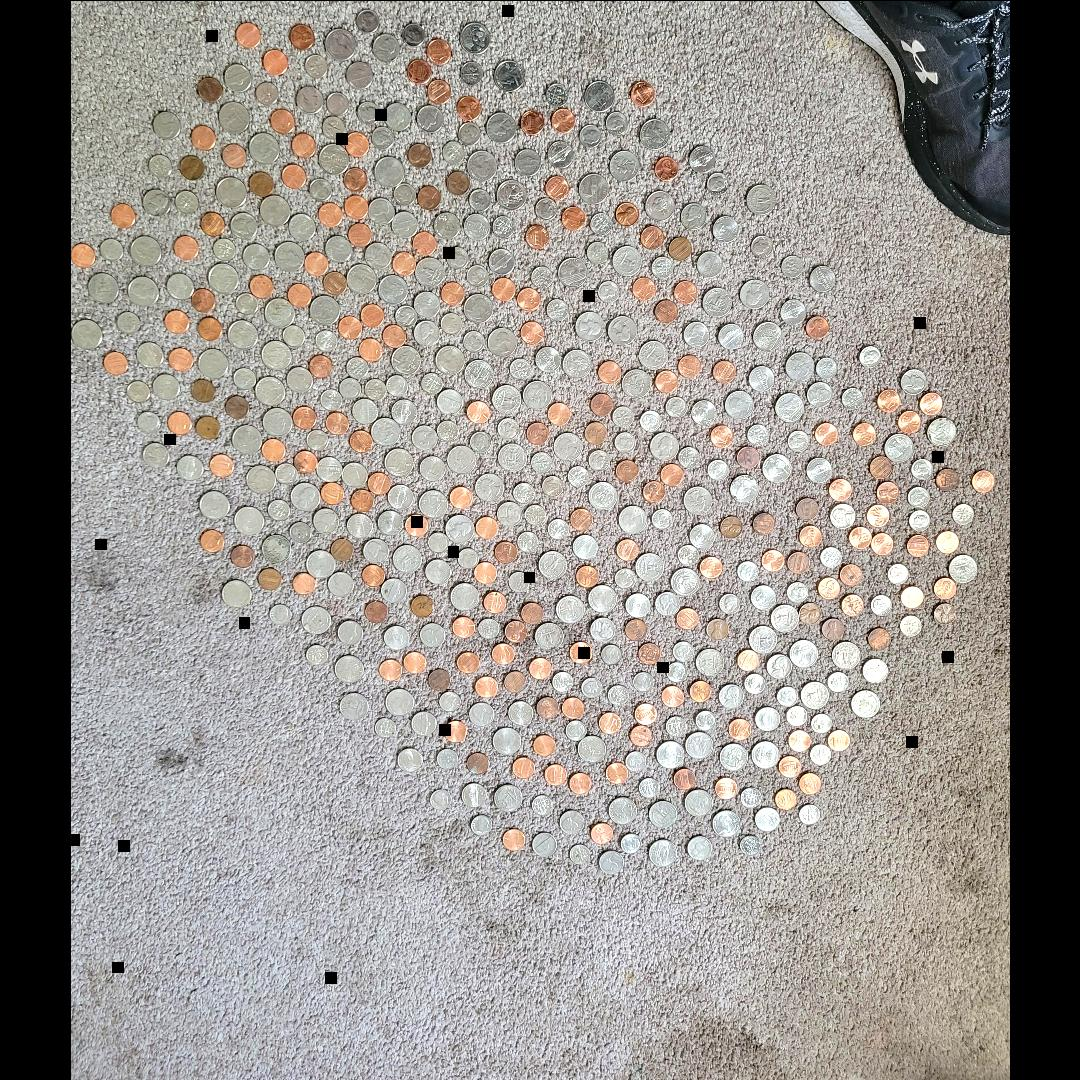Dime: (304, 53, 327, 76), (442, 140, 464, 164), (174, 190, 198, 212), (148, 154, 172, 176), (372, 126, 394, 150), (461, 60, 483, 84), (356, 10, 379, 32), (214, 237, 237, 259), (100, 238, 123, 260), (911, 458, 933, 480), (841, 387, 863, 409), (678, 446, 700, 468), (614, 430, 636, 452), (306, 428, 328, 450), (276, 462, 298, 484), (268, 498, 290, 520), (137, 410, 159, 432), (117, 311, 139, 333), (282, 324, 304, 346), (346, 356, 368, 378), (320, 388, 342, 410), (395, 304, 417, 326), (364, 378, 386, 400), (463, 330, 485, 352), (509, 358, 531, 380), (598, 280, 620, 302), (707, 172, 729, 194), (531, 265, 553, 287), (493, 215, 515, 237), (469, 188, 491, 210), (310, 178, 332, 200), (256, 82, 278, 104), (326, 92, 348, 114), (323, 117, 345, 139), (357, 101, 379, 123), (402, 23, 424, 45), (458, 122, 480, 144), (546, 83, 568, 105), (580, 124, 602, 146), (605, 111, 627, 133), (127, 380, 149, 402), (517, 530, 539, 551), (901, 614, 922, 636), (952, 503, 974, 524), (469, 430, 490, 452), (290, 520, 311, 542), (233, 367, 255, 388), (237, 292, 258, 314), (316, 330, 337, 352), (441, 312, 462, 334), (546, 298, 567, 320), (816, 357, 837, 379), (587, 241, 608, 263), (590, 213, 612, 234), (447, 246, 468, 268), (393, 183, 414, 205), (458, 546, 479, 567), (422, 371, 443, 392), (810, 744, 832, 764), (666, 714, 686, 736), (607, 684, 629, 704), (532, 794, 554, 814), (430, 788, 452, 808), (478, 618, 500, 638), (614, 568, 636, 588), (678, 544, 700, 564), (719, 593, 741, 613), (820, 546, 842, 566), (744, 672, 766, 692), (910, 508, 930, 530), (908, 486, 930, 506), (708, 458, 728, 480), (651, 508, 673, 528), (612, 406, 634, 426), (339, 378, 361, 398), (860, 345, 880, 367), (782, 254, 802, 276), (751, 236, 773, 256), (652, 255, 672, 277), (536, 197, 556, 219), (741, 834, 762, 854), (639, 777, 660, 797), (566, 719, 586, 740), (472, 814, 493, 834), (437, 748, 458, 768), (440, 691, 461, 711), (787, 581, 807, 602), (829, 671, 850, 691), (871, 594, 892, 614), (788, 429, 808, 450), (666, 396, 686, 417), (640, 410, 661, 430), (524, 504, 545, 524), (514, 481, 534, 502), (543, 476, 564, 496), (532, 451, 552, 472), (498, 418, 518, 439), (437, 420, 458, 440), (468, 265, 488, 286), (696, 710, 716, 730), (812, 712, 832, 732), (800, 803, 820, 823), (622, 833, 642, 853), (570, 843, 590, 863), (625, 750, 645, 770), (582, 677, 602, 697), (428, 531, 448, 551), (553, 671, 573, 691), (673, 640, 693, 660), (738, 561, 758, 581), (888, 563, 908, 583), (748, 424, 768, 444), (588, 449, 608, 469), (568, 466, 588, 486), (548, 518, 568, 538), (388, 374, 408, 394), (786, 706, 807, 725), (667, 662, 688, 681), (374, 718, 396, 736), (306, 644, 328, 662), (508, 572, 530, 590), (270, 603, 290, 622), (777, 686, 798, 704), (742, 786, 760, 806), (602, 643, 620, 663), (633, 672, 653, 690)
Nickel: (152, 110, 180, 138), (385, 102, 411, 130), (144, 188, 170, 216), (411, 423, 437, 451), (780, 298, 807, 324), (515, 148, 541, 175), (347, 61, 373, 88), (417, 105, 443, 132), (373, 34, 399, 61), (830, 502, 856, 528), (177, 454, 203, 480), (287, 366, 313, 392), (352, 398, 378, 424), (718, 322, 744, 348), (810, 265, 836, 291), (712, 215, 738, 241), (547, 140, 573, 166), (391, 211, 417, 237), (368, 198, 394, 224), (488, 248, 514, 274), (365, 242, 391, 268), (325, 235, 351, 261), (414, 320, 440, 346), (414, 291, 440, 317), (289, 214, 315, 240), (167, 272, 193, 298), (225, 64, 251, 90), (230, 212, 256, 238), (296, 86, 322, 112), (316, 456, 342, 481), (900, 369, 926, 394), (434, 213, 460, 238), (153, 372, 179, 397), (681, 203, 706, 229), (135, 342, 162, 366), (690, 146, 714, 173), (495, 500, 522, 524), (754, 806, 780, 830), (426, 558, 450, 584), (572, 534, 598, 558), (862, 658, 888, 682), (806, 457, 832, 481), (347, 512, 373, 536), (342, 462, 368, 486), (392, 398, 416, 424), (437, 388, 463, 412), (536, 346, 560, 372), (684, 322, 710, 346), (749, 366, 775, 390), (698, 251, 722, 277), (464, 214, 490, 238), (243, 244, 269, 268), (143, 443, 169, 467), (329, 571, 354, 595), (718, 683, 744, 706), (590, 617, 616, 640), (468, 702, 494, 725), (688, 835, 712, 859), (560, 810, 584, 834), (755, 706, 779, 730), (508, 700, 532, 724), (462, 782, 486, 806), (532, 832, 556, 856), (412, 710, 436, 734), (338, 620, 362, 644), (382, 578, 406, 602), (364, 538, 388, 562), (420, 622, 444, 646), (626, 592, 650, 616), (752, 584, 776, 608), (690, 524, 714, 548), (388, 484, 412, 508), (378, 510, 402, 534), (420, 456, 444, 480), (808, 382, 832, 406), (314, 508, 338, 532), (692, 400, 716, 424), (384, 625, 408, 648), (768, 653, 792, 676), (398, 747, 422, 770), (599, 850, 623, 872), (656, 592, 680, 614)
Penny: (262, 48, 288, 76), (198, 76, 222, 102), (249, 170, 273, 196), (896, 409, 922, 433), (191, 125, 215, 150), (236, 21, 260, 46), (362, 600, 388, 623), (970, 468, 996, 491), (164, 311, 190, 334), (936, 467, 960, 491), (230, 544, 254, 568), (168, 409, 192, 433), (174, 235, 198, 259), (180, 155, 204, 179), (222, 144, 246, 168), (343, 194, 367, 218), (408, 59, 432, 83), (446, 170, 470, 194), (552, 107, 576, 131), (526, 656, 552, 678), (448, 485, 474, 507), (208, 454, 234, 476), (284, 164, 306, 190), (291, 23, 313, 49), (418, 184, 440, 210), (641, 224, 663, 250), (351, 488, 374, 512), (192, 378, 215, 402), (346, 131, 368, 156), (73, 243, 96, 266), (878, 388, 901, 411), (444, 718, 466, 742), (570, 640, 592, 664), (688, 680, 712, 702), (520, 601, 544, 623), (504, 620, 528, 642), (451, 614, 473, 638), (483, 591, 507, 613), (293, 571, 315, 595), (258, 567, 282, 589), (901, 584, 923, 608), (405, 513, 429, 535), (367, 472, 391, 494), (320, 481, 344, 503), (871, 530, 893, 554), (866, 504, 890, 526), (875, 480, 899, 502), (852, 422, 876, 444), (736, 446, 760, 468), (710, 425, 734, 447), (349, 430, 373, 452), (293, 450, 317, 472), (263, 436, 285, 460), (201, 528, 223, 552), (103, 352, 127, 374), (111, 204, 135, 226), (169, 348, 193, 370), (197, 414, 219, 438), (192, 288, 214, 312), (308, 354, 332, 376), (323, 272, 347, 294), (338, 316, 362, 338), (360, 338, 382, 362), (320, 202, 342, 226), (349, 222, 371, 246), (271, 108, 293, 132), (292, 132, 314, 156), (344, 166, 366, 190), (428, 39, 450, 63), (429, 79, 451, 103), (457, 97, 481, 119), (409, 142, 431, 166), (412, 231, 436, 253), (466, 400, 490, 422), (521, 320, 543, 344), (493, 276, 515, 300), (516, 287, 540, 309), (526, 224, 548, 248), (521, 111, 543, 135), (631, 82, 655, 104), (656, 156, 678, 180), (545, 176, 569, 198), (563, 205, 585, 229), (669, 236, 691, 260), (632, 275, 654, 299), (599, 360, 621, 384), (713, 360, 737, 382), (805, 316, 829, 338), (655, 298, 677, 322), (918, 392, 942, 414), (661, 685, 684, 707), (410, 594, 433, 616), (868, 625, 890, 648), (934, 601, 956, 624), (660, 463, 683, 485), (526, 421, 548, 444), (202, 212, 224, 235), (250, 275, 272, 298), (305, 250, 327, 273), (674, 281, 697, 303), (656, 369, 678, 392), (799, 771, 821, 793), (779, 755, 801, 777), (716, 777, 738, 799), (674, 766, 696, 788), (606, 761, 628, 783), (569, 771, 591, 793), (544, 762, 566, 784), (513, 755, 535, 777), (404, 650, 426, 672), (428, 668, 450, 690), (457, 650, 479, 672), (475, 674, 497, 696), (504, 669, 526, 691), (535, 696, 557, 718), (563, 697, 585, 719), (634, 702, 656, 724), (638, 642, 660, 664), (625, 619, 647, 641), (728, 717, 750, 739), (706, 617, 728, 639), (677, 606, 699, 628), (799, 601, 821, 623), (700, 555, 722, 577), (617, 538, 639, 560), (494, 539, 516, 561), (475, 561, 497, 583), (362, 563, 384, 585), (762, 549, 784, 571), (720, 515, 742, 537), (787, 551, 809, 573), (840, 562, 862, 584), (841, 593, 863, 615), (934, 575, 956, 597), (476, 516, 498, 538), (332, 538, 354, 560), (796, 497, 818, 519), (849, 526, 871, 548), (830, 478, 852, 500), (937, 531, 959, 553), (869, 455, 891, 477), (815, 422, 837, 444), (643, 480, 665, 502), (616, 458, 638, 480), (570, 507, 592, 529), (584, 420, 606, 442), (226, 395, 248, 417), (199, 318, 221, 340), (294, 407, 316, 429), (327, 411, 349, 433), (288, 283, 310, 305), (362, 303, 384, 325), (383, 324, 405, 346), (393, 252, 415, 274), (442, 281, 464, 303), (616, 203, 638, 225), (548, 401, 570, 423), (592, 392, 614, 414), (678, 354, 700, 376), (534, 734, 557, 755), (788, 730, 812, 750), (380, 659, 402, 680), (828, 728, 850, 749), (738, 648, 760, 669), (906, 533, 928, 554), (821, 617, 844, 637), (799, 525, 822, 545), (631, 725, 652, 746), (503, 828, 525, 848), (774, 788, 796, 808), (466, 752, 488, 772), (493, 642, 515, 662), (599, 712, 621, 732), (576, 565, 598, 585), (819, 578, 841, 598), (753, 512, 775, 532), (592, 822, 612, 843)
Quarter: (216, 176, 246, 208), (584, 80, 614, 112), (249, 131, 279, 163), (494, 60, 526, 90), (460, 23, 490, 54), (325, 29, 355, 60), (198, 348, 228, 378), (88, 272, 118, 302), (128, 276, 158, 306), (131, 235, 161, 265), (208, 263, 238, 293), (274, 241, 304, 271), (378, 274, 408, 304), (463, 358, 493, 388), (612, 245, 642, 275), (622, 368, 652, 398), (638, 339, 668, 369), (702, 286, 732, 316), (740, 278, 770, 308), (752, 320, 782, 350), (747, 183, 777, 213), (639, 118, 669, 148), (486, 112, 516, 142), (467, 150, 497, 180), (496, 180, 526, 210), (374, 156, 404, 186), (319, 143, 349, 173), (260, 195, 290, 225), (219, 102, 249, 132), (450, 581, 480, 610), (762, 452, 791, 482), (730, 473, 760, 502), (776, 392, 805, 422), (618, 503, 648, 532), (522, 379, 552, 408), (371, 416, 400, 446), (246, 464, 276, 493), (73, 318, 102, 348), (227, 319, 257, 348), (261, 340, 291, 369), (264, 297, 294, 326), (310, 295, 340, 324), (346, 264, 376, 293), (415, 256, 444, 286), (436, 344, 465, 374), (609, 150, 638, 180), (646, 190, 675, 220), (291, 481, 320, 510), (392, 345, 421, 374), (464, 294, 493, 323), (928, 416, 956, 446), (578, 174, 608, 202), (262, 534, 292, 562), (534, 621, 564, 649), (884, 433, 914, 461), (724, 390, 754, 418), (418, 488, 448, 516), (232, 424, 262, 452), (488, 326, 516, 356), (558, 257, 586, 287), (576, 310, 604, 340), (563, 348, 591, 378), (301, 606, 330, 634), (446, 514, 475, 542), (683, 485, 712, 513), (650, 432, 678, 461), (475, 472, 503, 501), (491, 384, 520, 412), (235, 505, 264, 533), (256, 375, 284, 404), (608, 316, 636, 345), (785, 352, 814, 380), (948, 554, 978, 581), (384, 448, 414, 475), (262, 408, 292, 435), (588, 584, 616, 612), (554, 432, 582, 460), (498, 443, 526, 471), (200, 490, 228, 518), (340, 692, 369, 719), (850, 690, 880, 716), (222, 580, 252, 606), (392, 544, 422, 570), (670, 568, 700, 594), (684, 788, 712, 815), (556, 595, 584, 622), (636, 552, 664, 579), (832, 640, 860, 667), (589, 481, 617, 508), (305, 550, 334, 576), (720, 742, 747, 769), (335, 654, 362, 681), (801, 681, 829, 707), (752, 741, 780, 767), (685, 731, 713, 757), (713, 810, 741, 836), (609, 797, 637, 823), (578, 735, 606, 761), (494, 784, 522, 810), (386, 688, 414, 714), (447, 446, 475, 472), (657, 741, 683, 768), (650, 838, 676, 865), (494, 727, 520, 754), (540, 551, 566, 578), (697, 648, 724, 674), (772, 604, 798, 631), (650, 800, 676, 826), (750, 626, 776, 652), (790, 640, 816, 666)
